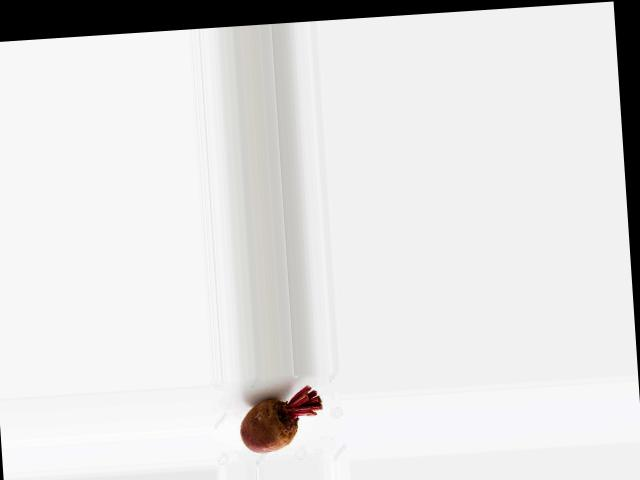beet: (236, 384, 324, 454)
